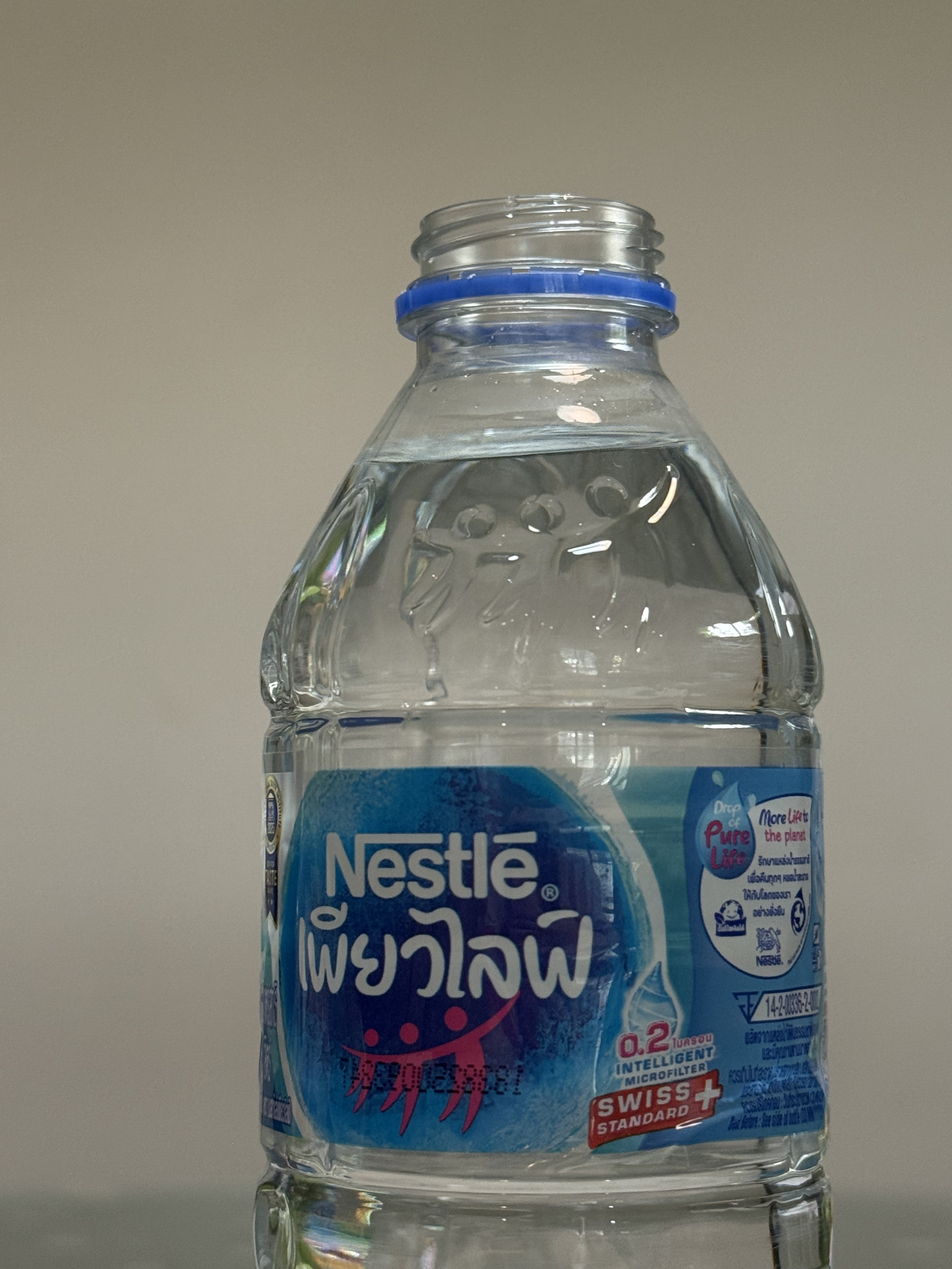no_cap: (394, 190, 682, 323)
